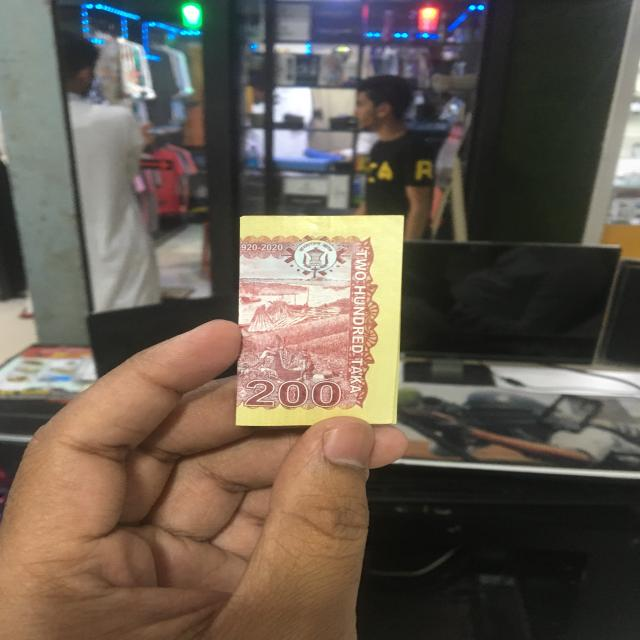Taka: (241, 214, 392, 420)
